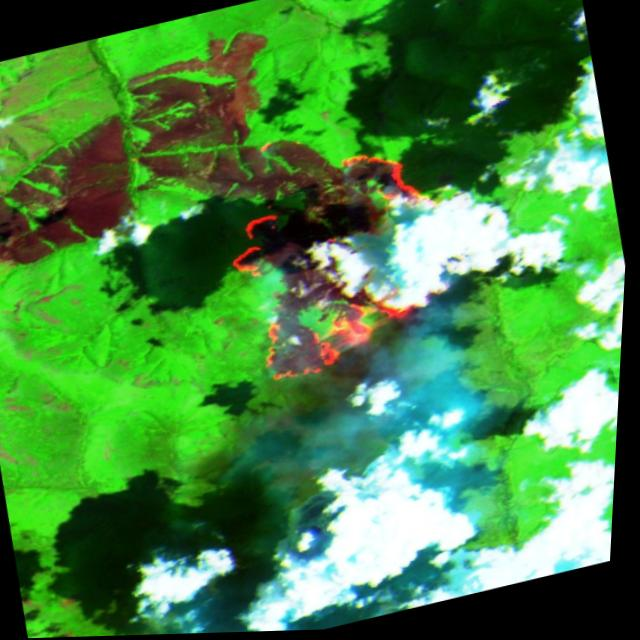fire: (201, 131, 487, 402)
